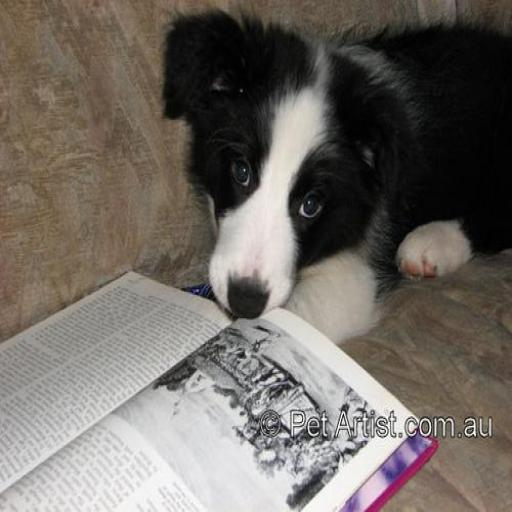dog_face: (166, 14, 383, 315)
